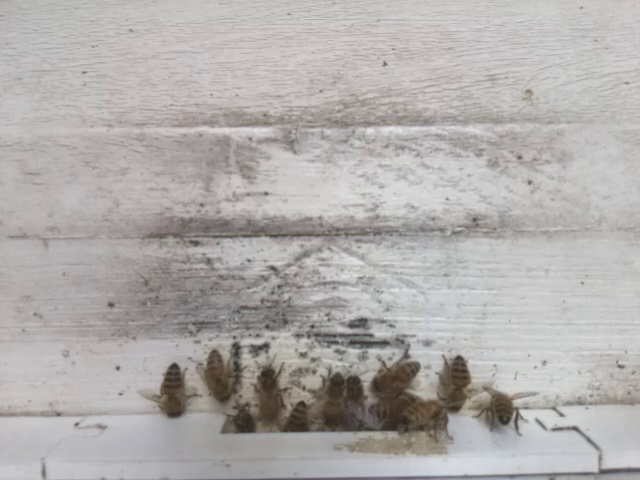bee: (135, 357, 206, 428), (478, 373, 541, 438), (366, 343, 428, 401), (192, 344, 245, 408), (246, 358, 294, 427), (432, 346, 480, 415), (311, 361, 353, 433), (403, 393, 451, 447), (343, 365, 372, 429), (371, 391, 420, 428), (223, 399, 260, 441), (285, 393, 314, 443)
